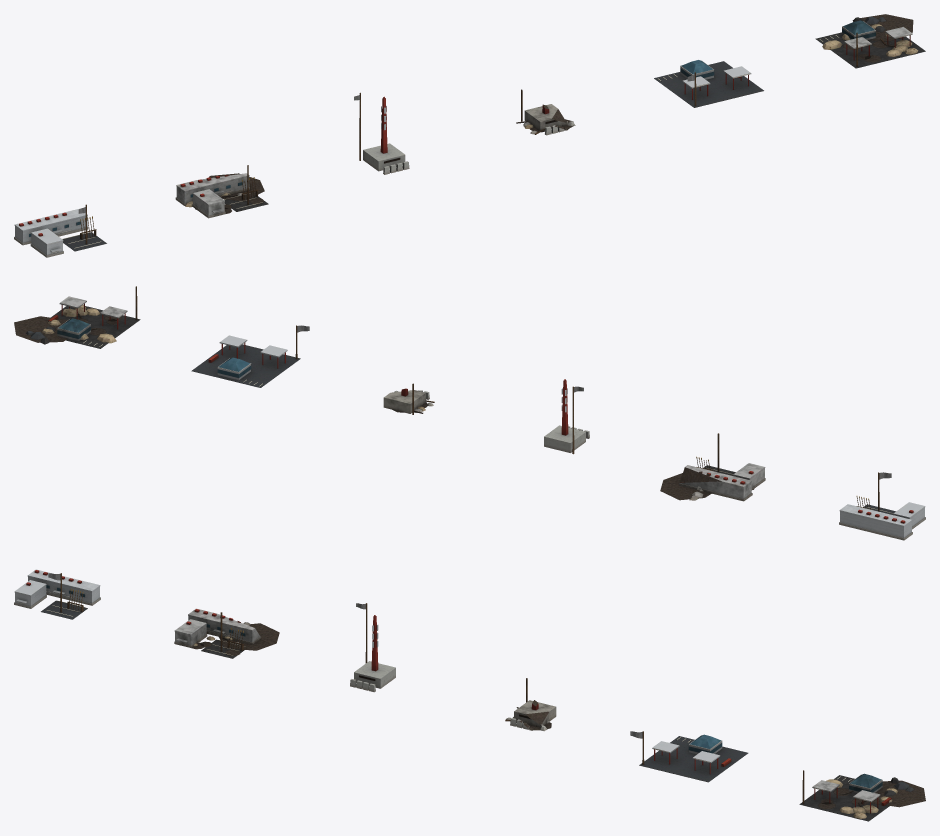
File: rts-information-sinic.glb
3 views of the same model, one above another, from view 1: azimuth 30°, elevation 25°; view 2: azimuth 150°, elevation 25°; view 3: azimuth 330°, elevation 25° (orthographic).
Parts seen in each view (by area): view 1: LOD0.005, LOD0.004, LOD0.001, LOD0, LOD0.002, LOD0.003; view 2: LOD0.005, LOD0.004, LOD0.001, LOD0, LOD0.002, LOD0.003; view 3: LOD0.005, LOD0.001, LOD0.004, LOD0, LOD0.002, LOD0.003.
Boxes of the visible parts, <box> form: LOD0.005: <box>815,14,925,68</box>; LOD0.004: <box>654,60,763,107</box>; LOD0.001: <box>175,165,268,218</box>; LOD0: <box>14,204,106,257</box>; LOD0.002: <box>354,92,409,174</box>; LOD0.003: <box>516,89,575,135</box>; LOD0.005: <box>14,286,140,348</box>; LOD0.004: <box>191,325,309,387</box>; LOD0.001: <box>660,433,765,501</box>; LOD0: <box>839,472,925,540</box>; LOD0.002: <box>544,379,589,454</box>; LOD0.003: <box>383,383,434,414</box>; LOD0.005: <box>799,770,925,821</box>; LOD0.001: <box>174,608,279,658</box>; LOD0.004: <box>630,731,748,782</box>; LOD0: <box>14,569,100,619</box>; LOD0.002: <box>350,603,395,692</box>; LOD0.003: <box>505,678,556,731</box>.
Size of what is drawn, in the model's own units: 16.68 by 1.2 by 1.69.
Materials: 2 (2 with a texture image).
